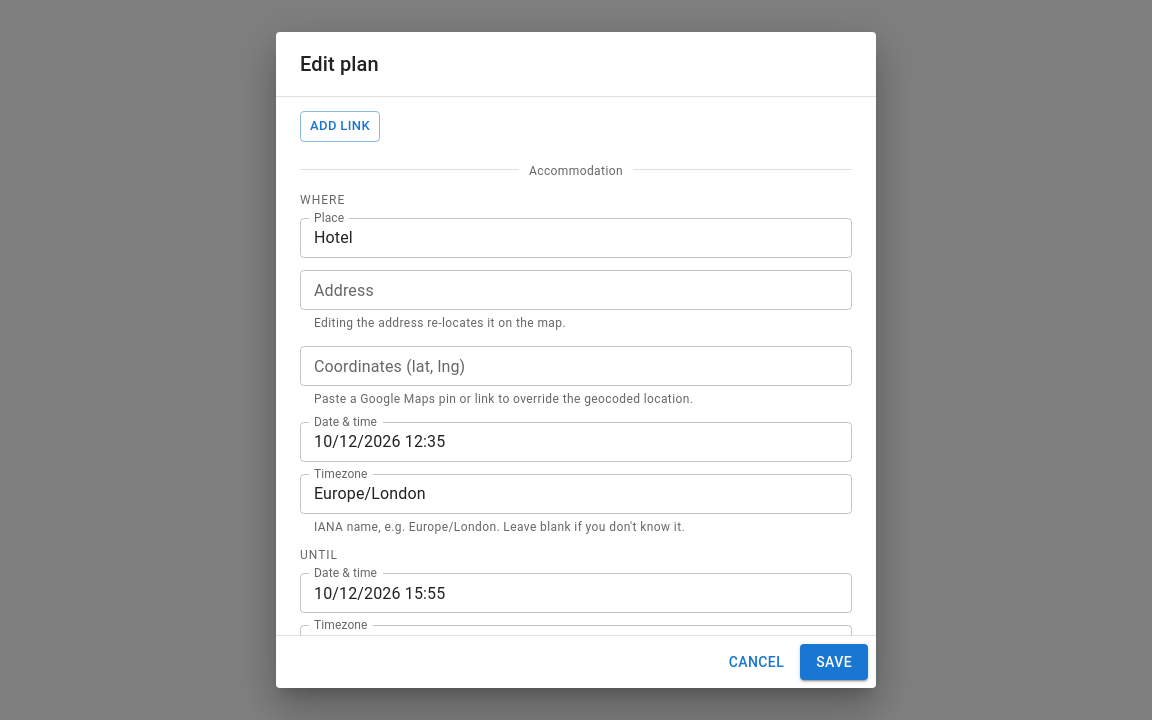
Test: PlanEditDialog — places & coordinates › Google Maps URL coordinate override › extracts coordinates from a pasted full Maps URL on blur (no network)
(page scrolled)
Type "https://www.google.com/maps/@51.5,-0.12,15z" into the field labelled "Coordinates (lat, lng)". click: (576, 366)
box: [300, 346, 852, 386]
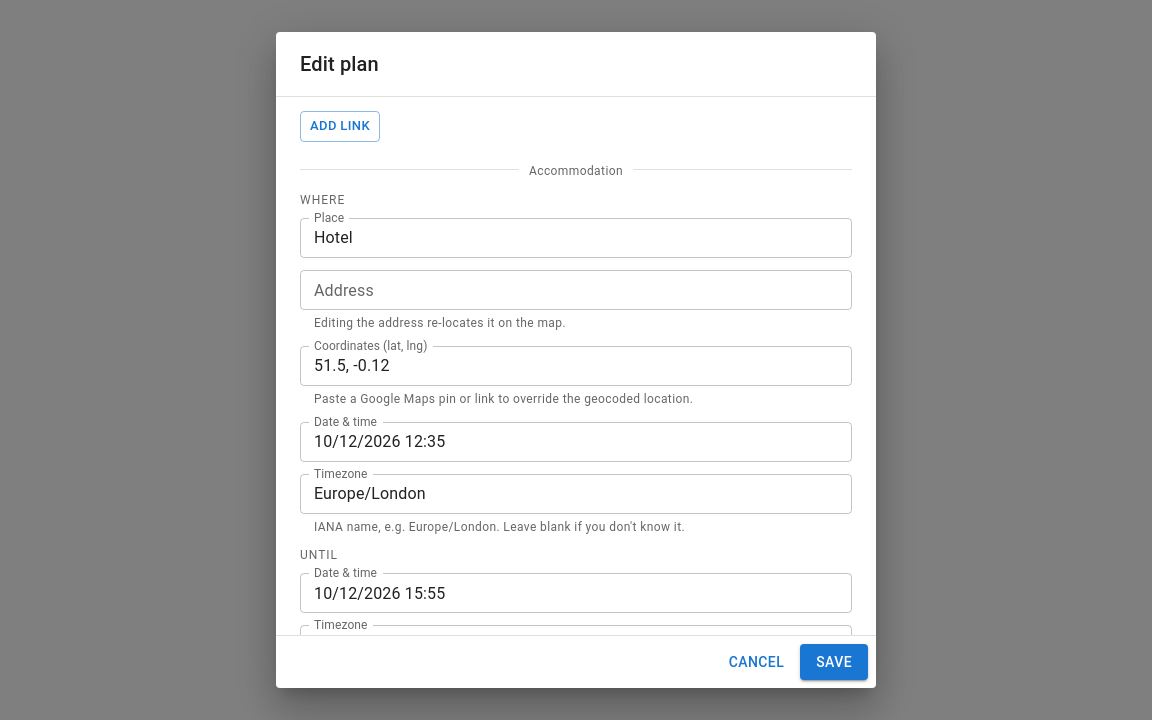
expect the field labelled "Coordinates (lat, lng)" holds "51.5, -0.12": met, box [300, 346, 852, 386]
